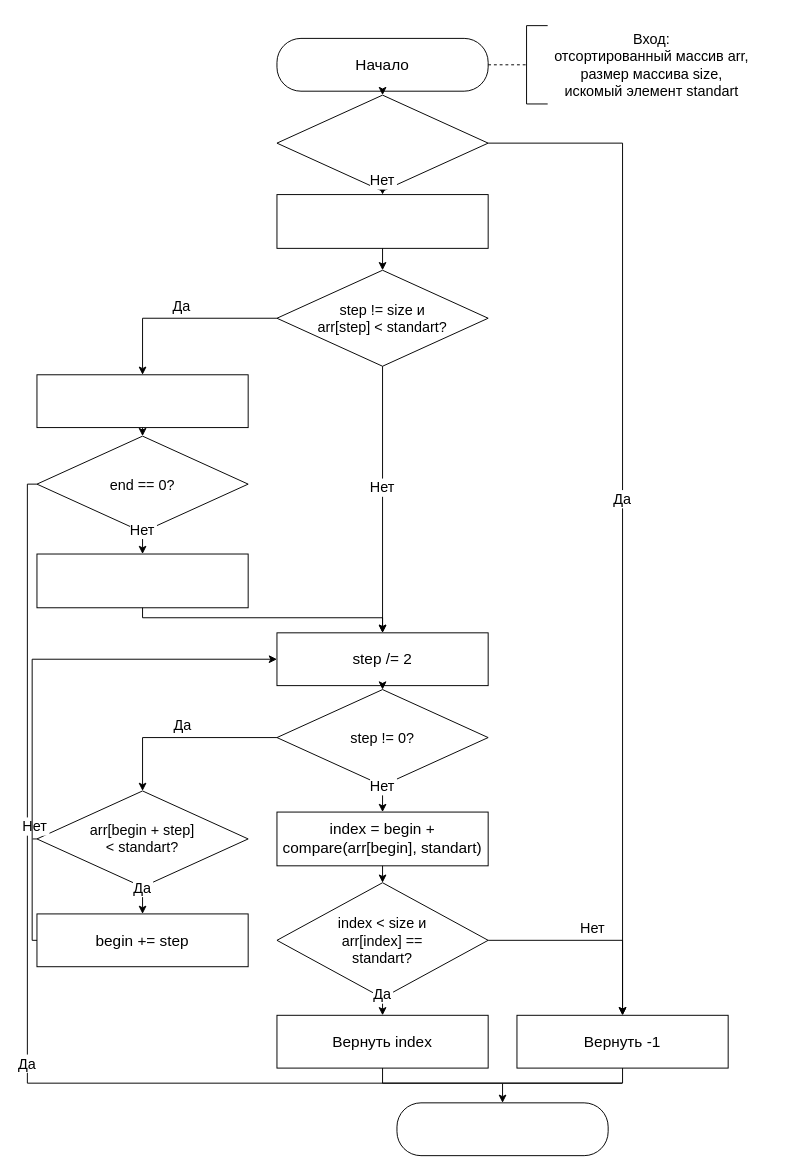
Image size: 790x1172. Some labels were removed from this diagram. The shapes that lost their labels are listed below. From the top down, each one's centre as x and y in pixels, then its label:
At (x=382, y=142): "size == 0?".
At (x=382, y=221): "begin = 0, end = size step = bit_floor(size)".
At (x=142, y=401): "end -= step + 1".
At (x=142, y=580): "step = bit_ceil(end) begin = size - step".
At (x=502, y=1129): "Конец".
